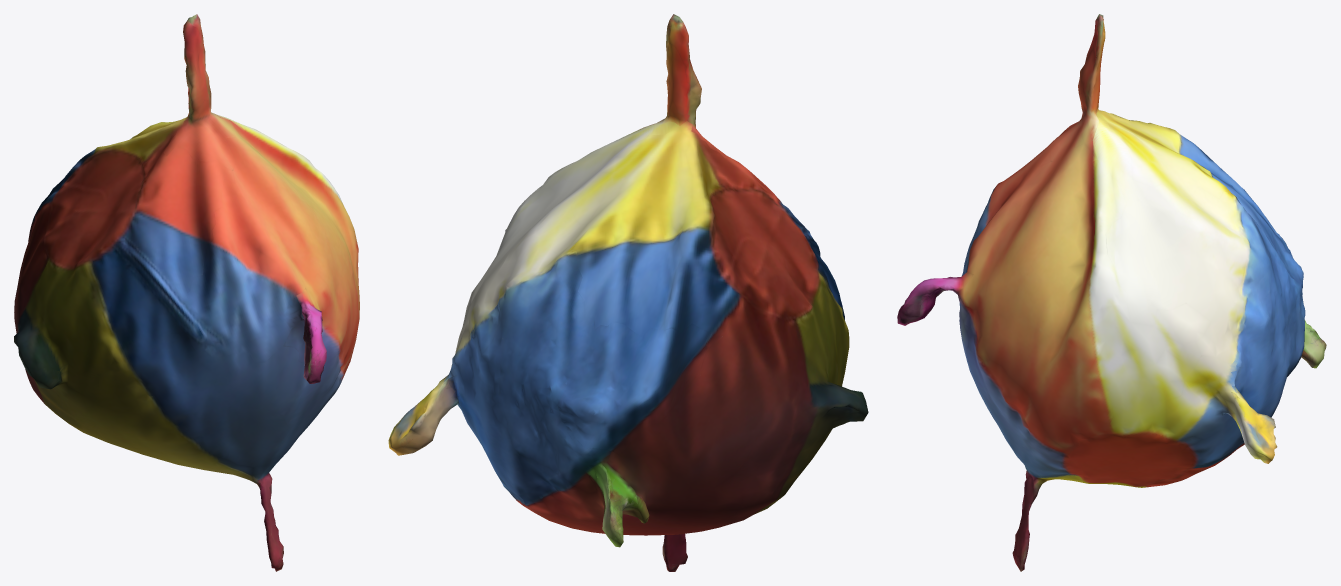
Rendered from harvey.glb.
3 renders of one model, left to right at view 1: azimuth 30°, elevation 25°; view 2: azimuth 150°, elevation 25°; view 3: azimuth 270°, elevation 25°, orthographic. The views are drawn at different scales.
Parts seen in each view (by area): view 1: 3DModel; view 2: 3DModel; view 3: 3DModel.
Boxes of the visible parts, bbox=[...] form: 3DModel: bbox=[14, 14, 359, 571]; 3DModel: bbox=[388, 14, 868, 571]; 3DModel: bbox=[897, 14, 1326, 571].
Bounding box in the file's own units: 0.1675 × 0.2519 × 0.1829.
1 material, 1 textured.
